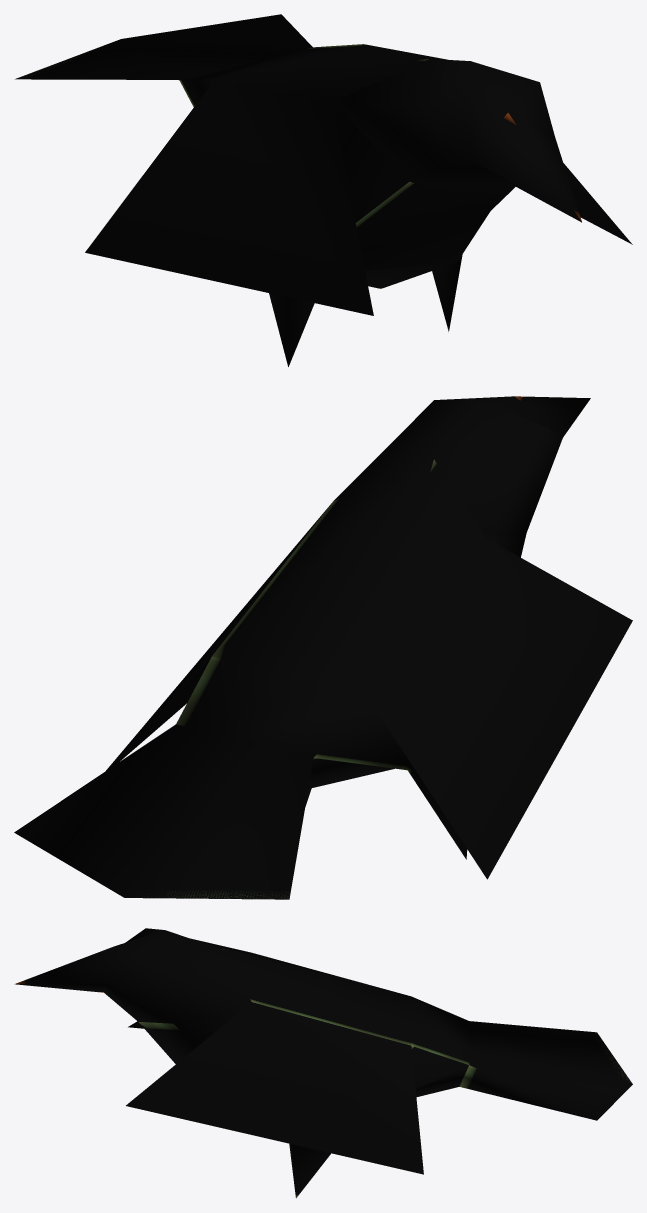
3 renders of one model, top to bottom at view 1: azimuth 30°, elevation 25°; view 2: azimuth 150°, elevation 25°; view 3: azimuth 270°, elevation 25°, orthographic. The views are drawn at different scales.
Visible parts, largest first — view 1: T1L2M005_4; view 2: T1L2M005_4; view 3: T1L2M005_4.
Boxes of the visible parts, x1,y1,x2,y2 form: T1L2M005_4: [15, 14, 632, 366]; T1L2M005_4: [14, 396, 632, 899]; T1L2M005_4: [14, 928, 632, 1198].
Size of the model in its own units: 0.0934 by 0.0855 by 0.1966.
